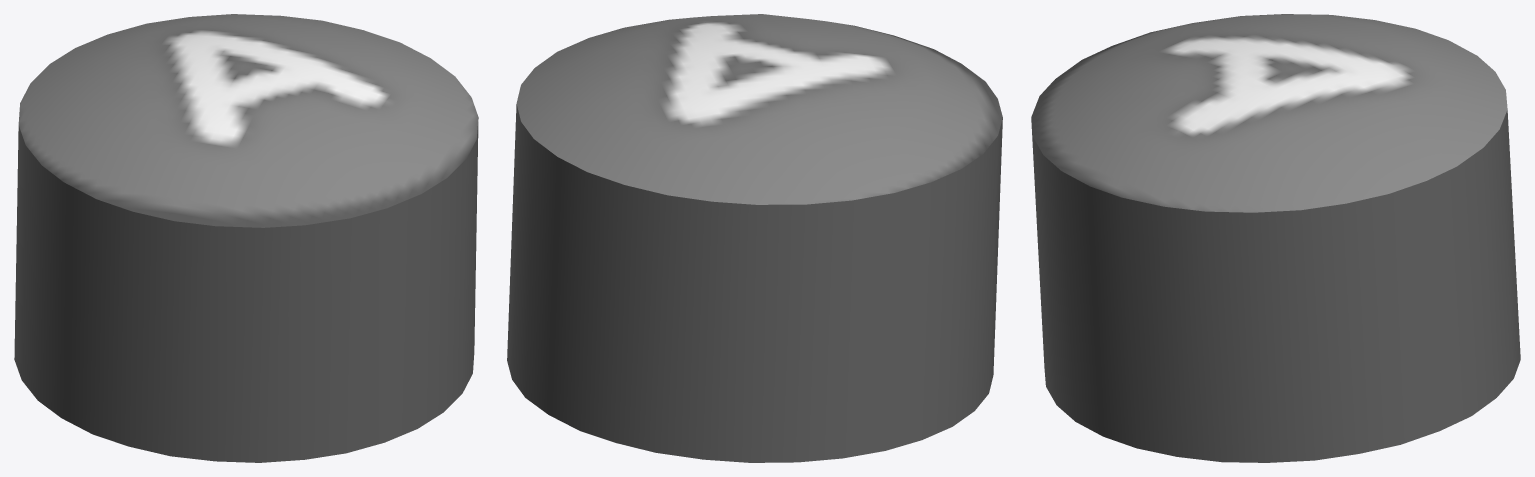
3 renders of one model, left to right at view 1: azimuth 30°, elevation 25°; view 2: azimuth 150°, elevation 25°; view 3: azimuth 270°, elevation 25°, orthographic. The views are drawn at different scales.
Size of the model in its own units: 0.00964 by 0.00682 by 0.00984.
Materials: 1 (1 with a texture image).
